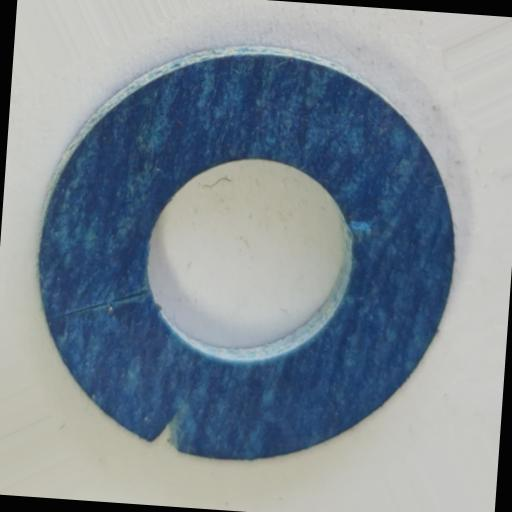defect: (48, 282, 150, 332), (150, 412, 182, 451)
